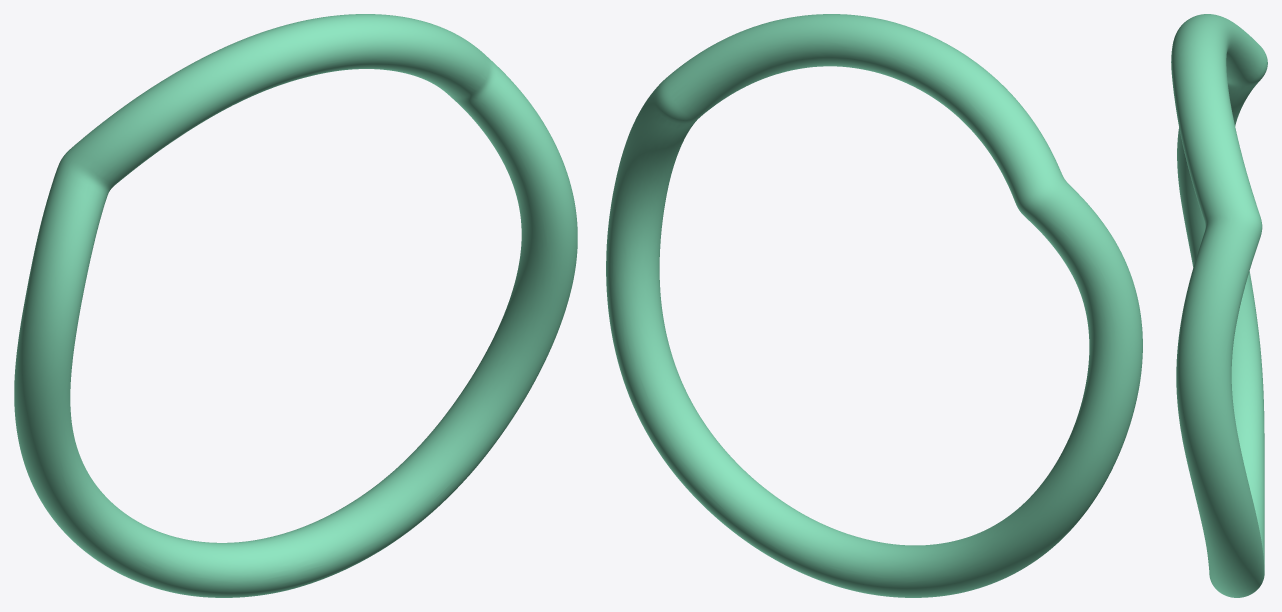
3 renders of one model, left to right at view 1: azimuth 30°, elevation 25°; view 2: azimuth 150°, elevation 25°; view 3: azimuth 270°, elevation 25°, orthographic. The views are drawn at different scales.
Visible parts, largest first — view 1: Metal03; view 2: Metal03; view 3: Metal03.
Boxes of the visible parts, <box> form: Metal03: <box>14,14,577,597</box>; Metal03: <box>606,14,1142,597</box>; Metal03: <box>1171,14,1267,597</box>.
Bounding box in the file's own units: 20.89 × 20.87 × 3.45.
